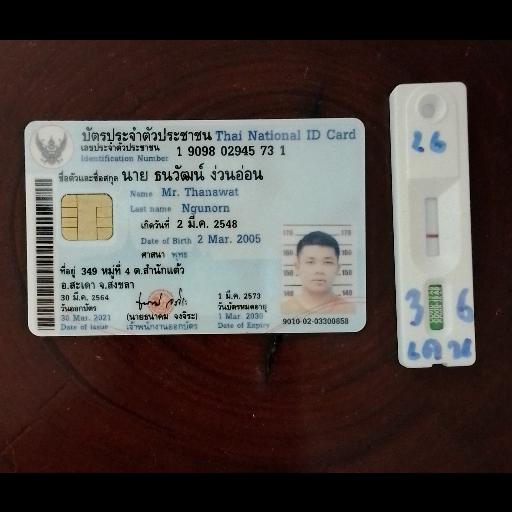Neg: (391, 82, 473, 368)
